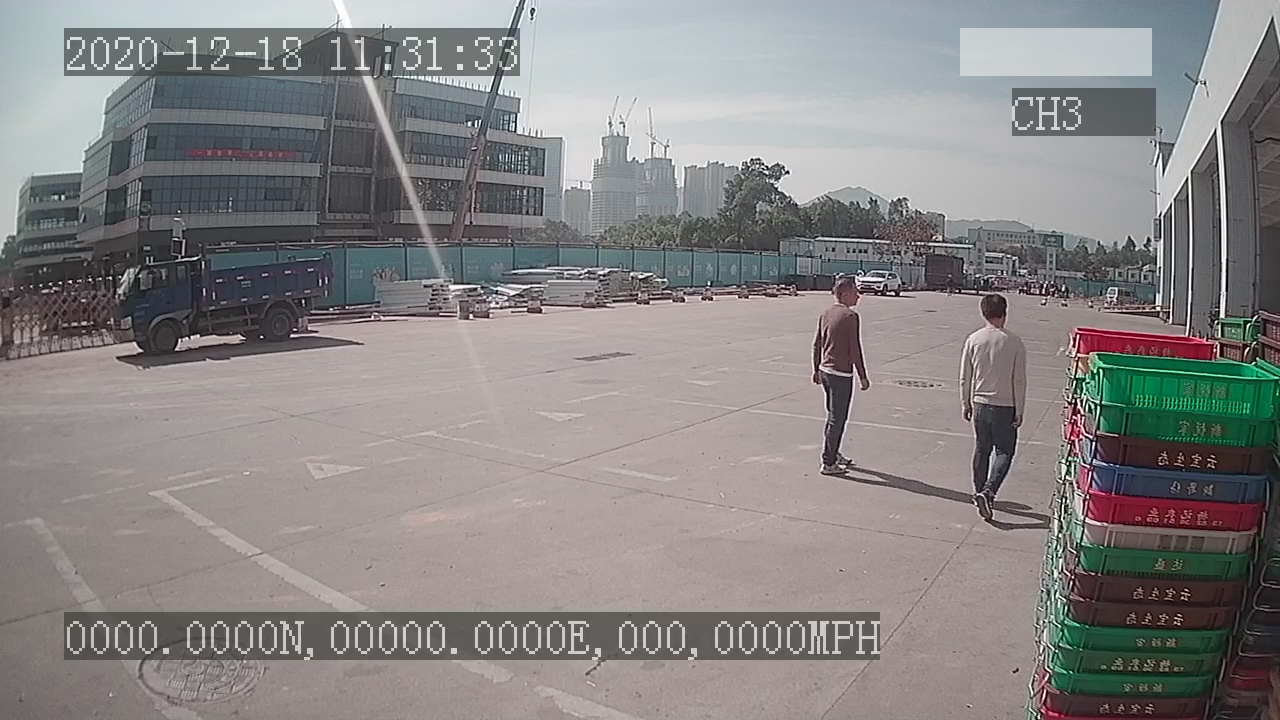person: (958, 290, 1032, 528)
